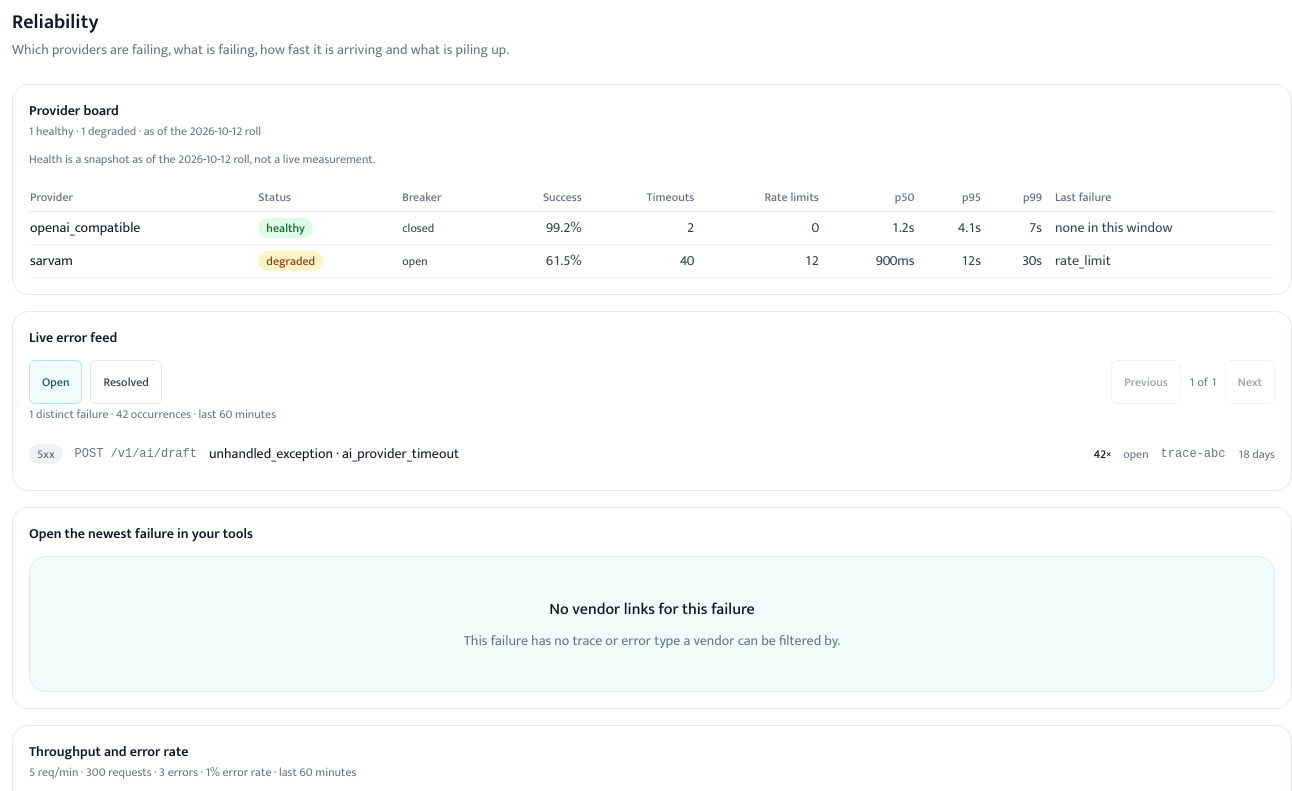
ObservabilityReliabilityPage › filters the feed by open and resolved, asking the read for the slice
Expected: the list item with test id "reliability-error-fp-1" is shown, [29,442,1275,465]
Click the button with test id "reliability-error-filter-resolved": click(126, 382) [90,360,162,404]
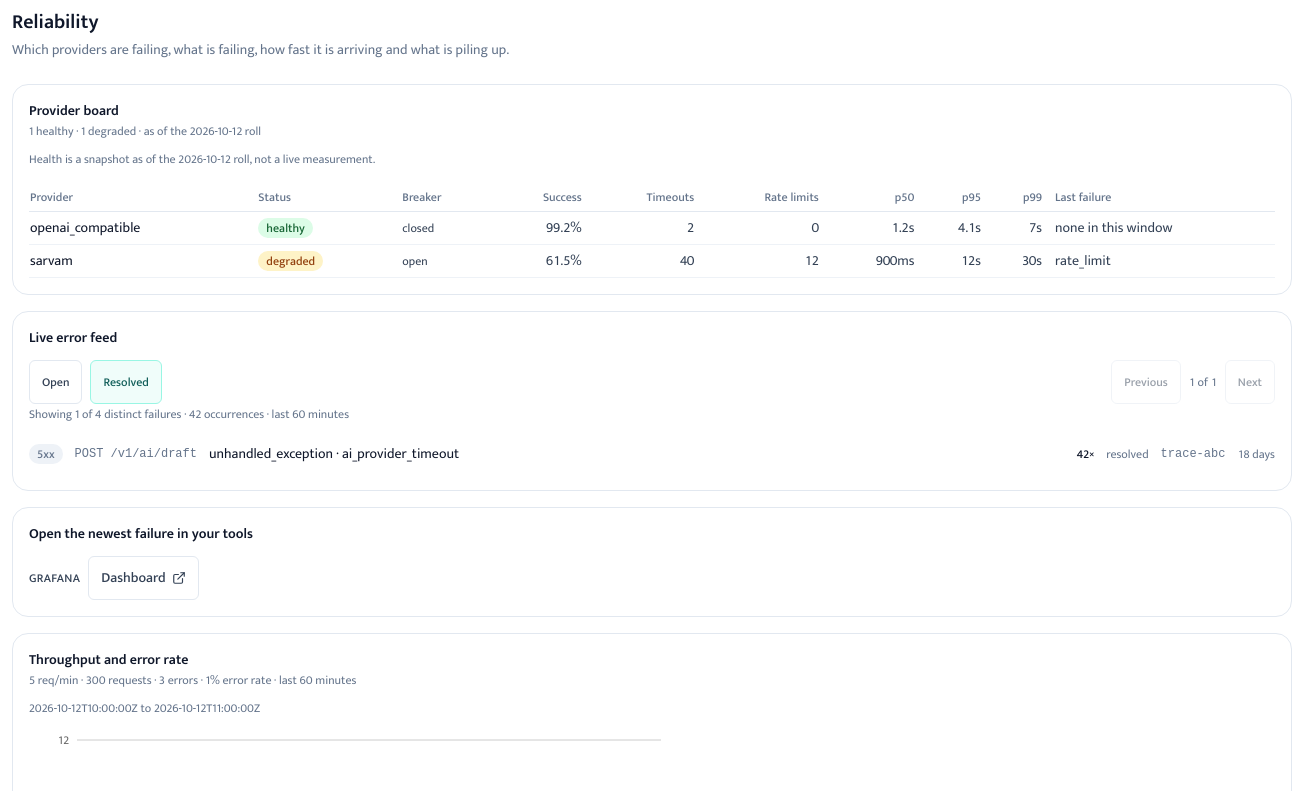
Expected: the list item with test id "reliability-error-fp-resolved" is shown, [29,442,1275,465]
Expected: the list item with test id "reliability-error-fp-1" is gone
